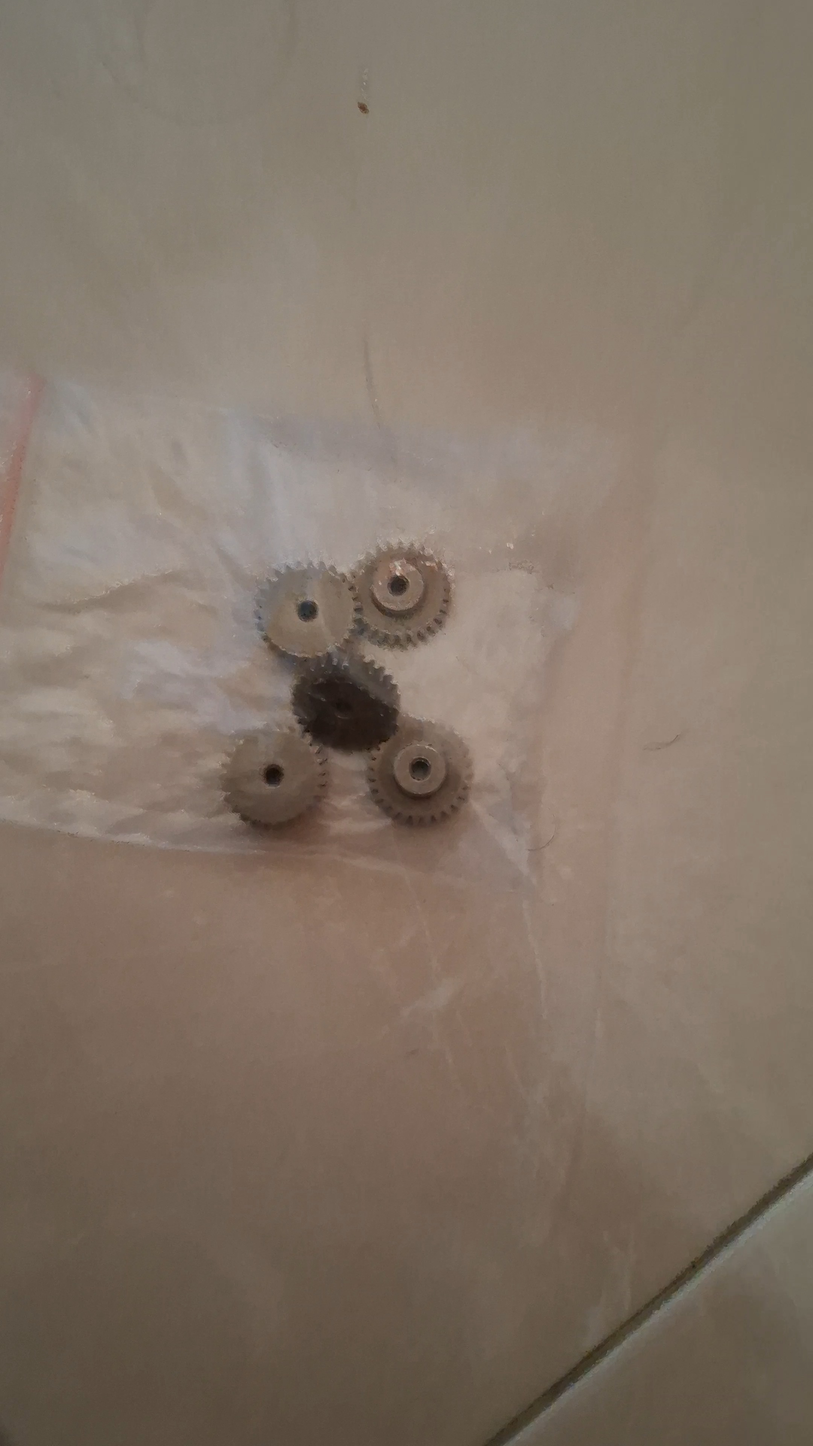spur gear: (368, 719, 472, 824), (291, 652, 399, 750), (350, 544, 451, 646), (222, 728, 327, 826), (257, 564, 359, 659)
